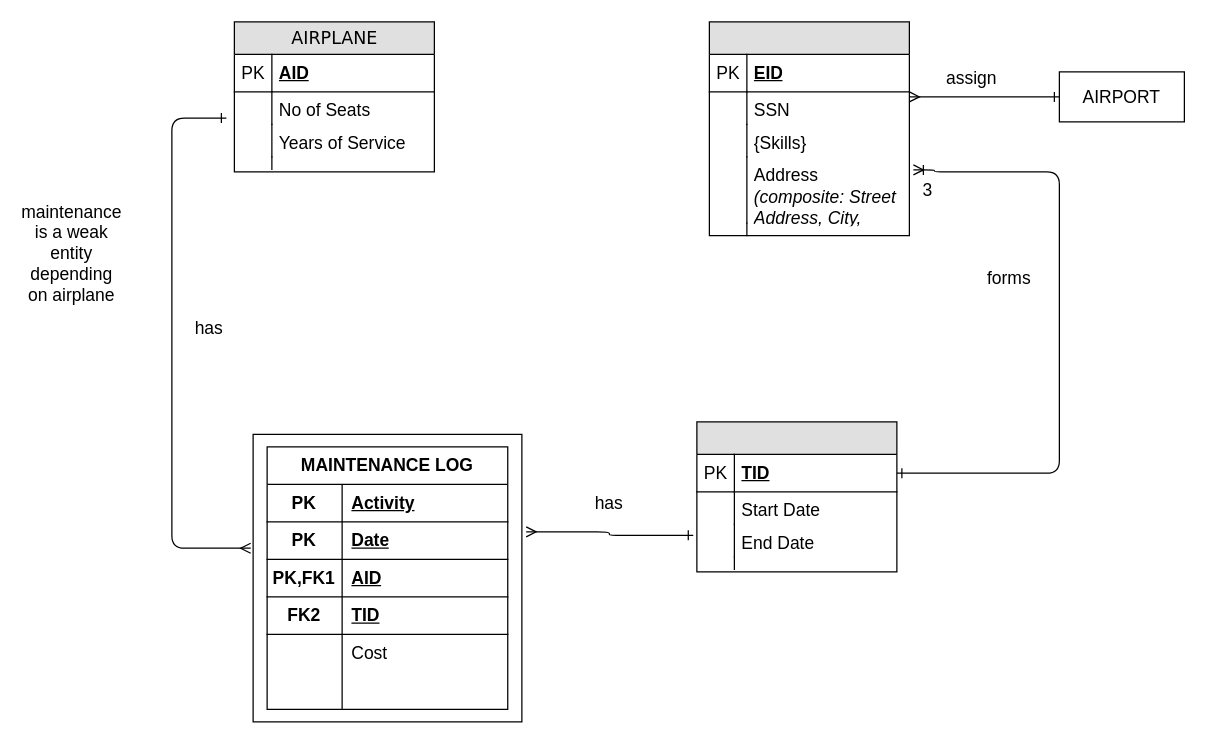
This 1206x744 diagram has some shape labels left out. The shapes that lost their labels are listed below. From the top down, each one's box as (x1, y1, x2, y2) in pixels, then its label:
(708, 21, 909, 236): TECHNICIAN
(696, 421, 897, 572): TEAM
